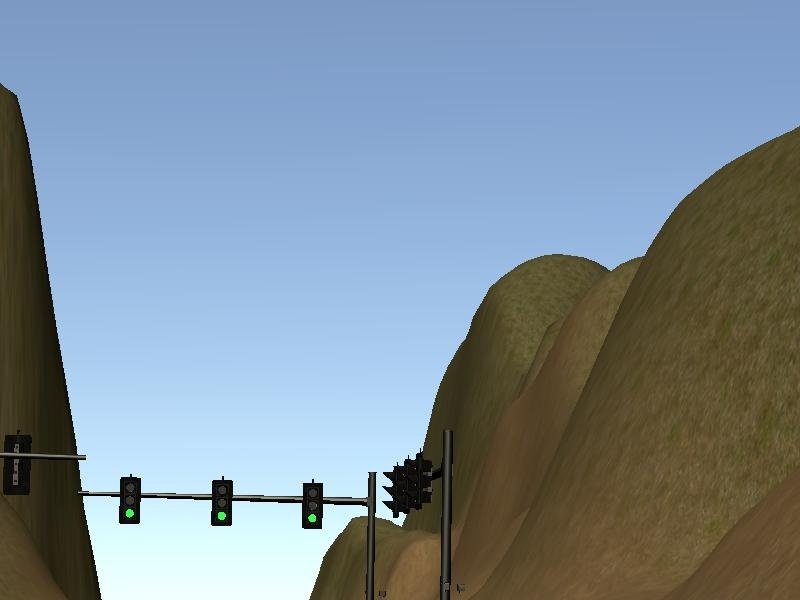Green: (212, 480, 231, 527), (303, 482, 322, 529), (121, 477, 140, 524)
